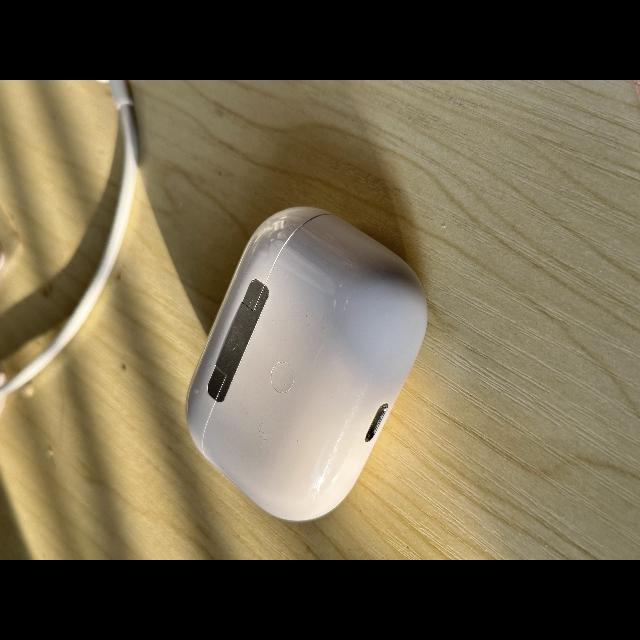AirPods Pro: (186, 206, 428, 521)
